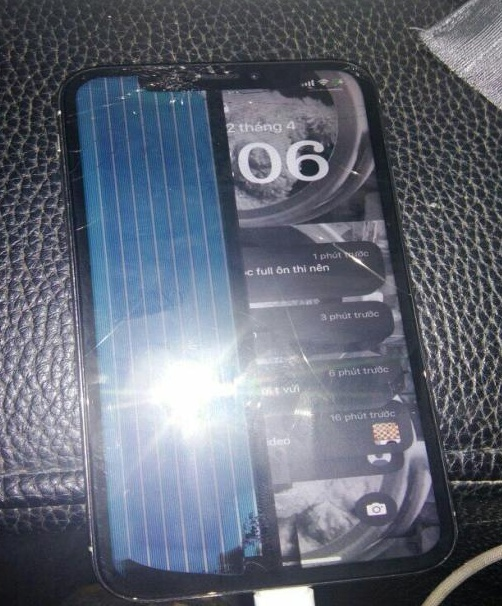physical_damage: (72, 64, 267, 117), (335, 159, 371, 178), (95, 120, 127, 138), (306, 364, 330, 387), (289, 323, 309, 349), (121, 128, 142, 147), (72, 218, 104, 229), (67, 141, 92, 155), (350, 254, 373, 269), (97, 150, 115, 169), (68, 169, 93, 181), (297, 352, 315, 367), (93, 330, 112, 344), (276, 279, 289, 299), (311, 229, 330, 241), (282, 302, 296, 318), (114, 317, 122, 331), (339, 245, 352, 253)
scratch: (342, 61, 371, 78), (194, 590, 224, 599)
screen_defect: (93, 403, 271, 589), (78, 234, 246, 402), (70, 71, 226, 232)
